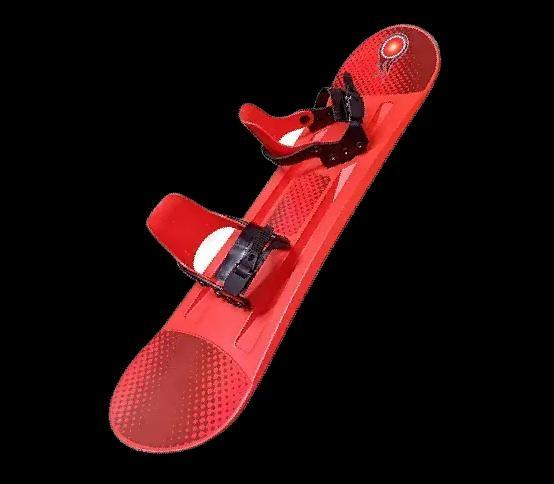Snowboard: (107, 22, 441, 453)
